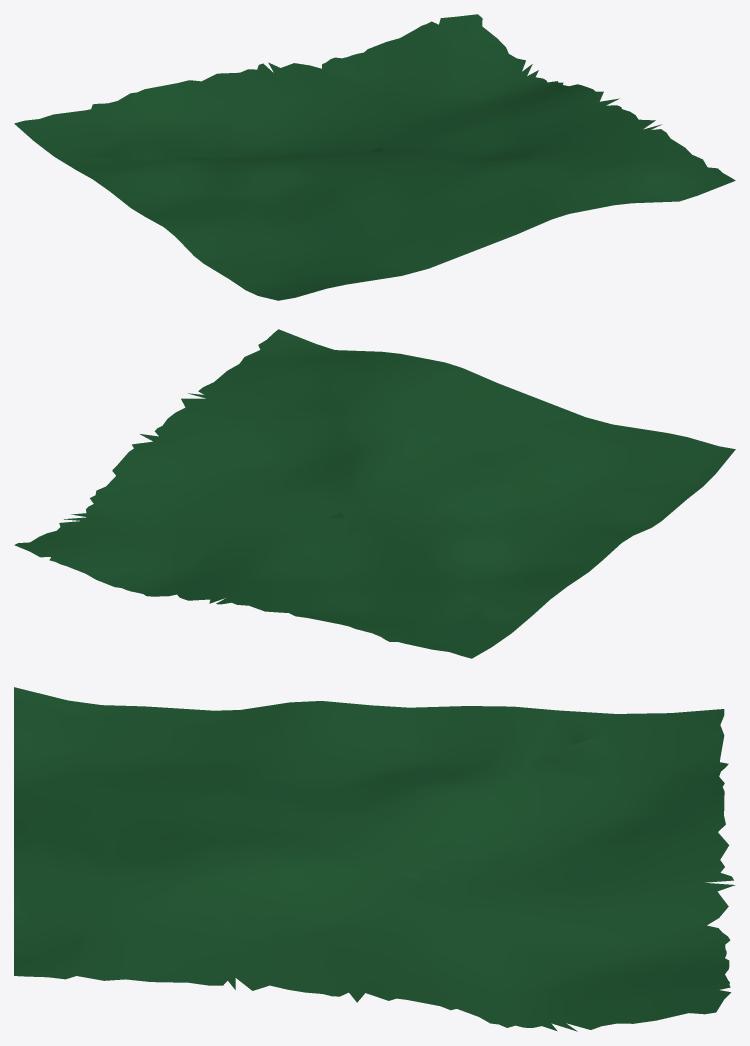
The model's file is payo_land_xm3_ym3_lod2.glb.
The picture shows the model from 3 angles, top to bottom: view 1: azimuth 30°, elevation 25°; view 2: azimuth 150°, elevation 25°; view 3: azimuth 270°, elevation 25°; orthographic projection. The views are drawn at different scales.
Visible parts, largest first — view 1: payo_land_xm3_ym3; view 2: payo_land_xm3_ym3; view 3: payo_land_xm3_ym3.
Boxes of the visible parts, x1,y1,x2,y2 form: payo_land_xm3_ym3: (14, 14, 735, 300); payo_land_xm3_ym3: (14, 329, 735, 658); payo_land_xm3_ym3: (14, 687, 735, 1031).
Size of the model in its own units: 262 by 28.39 by 259.
